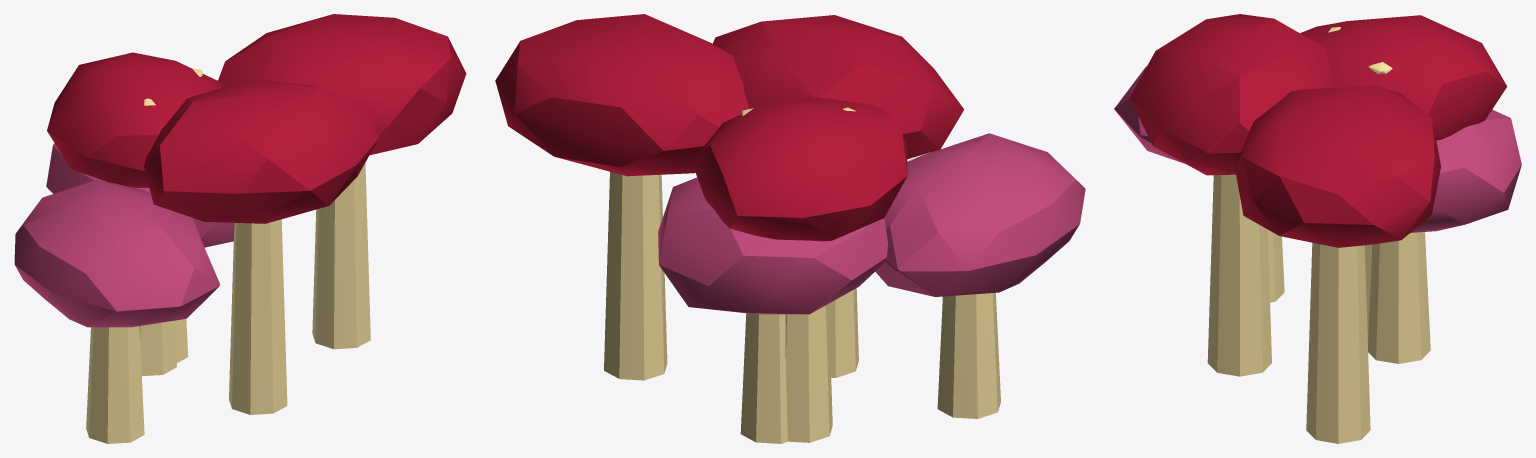
The model's file is plant_mushroom_lod2.glb.
3 renders of one model, left to right at view 1: azimuth 30°, elevation 25°; view 2: azimuth 150°, elevation 25°; view 3: azimuth 270°, elevation 25°, orthographic. The views are drawn at different scales.
Parts seen in each view (by area): view 1: Mushroom ivory stem.001; view 2: Mushroom ivory stem.001; view 3: Mushroom ivory stem.001.
Boxes of the visible parts, x1,y1,x2,y2 form: Mushroom ivory stem.001: (14, 14, 466, 443); Mushroom ivory stem.001: (495, 14, 1085, 443); Mushroom ivory stem.001: (1114, 14, 1521, 443).
Bounding box in the file's own units: 0.7777 × 0.4974 × 0.5613.
